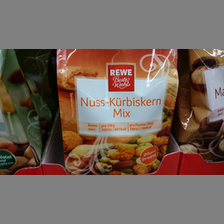nuts: (55, 49, 180, 174)
